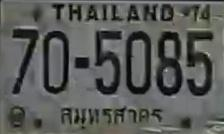0: (41, 29, 68, 92), (124, 30, 150, 94)
5: (185, 30, 213, 95), (94, 30, 121, 94)
7: (10, 28, 38, 93)
8: (156, 31, 182, 94)
SKN: (58, 104, 167, 131)
